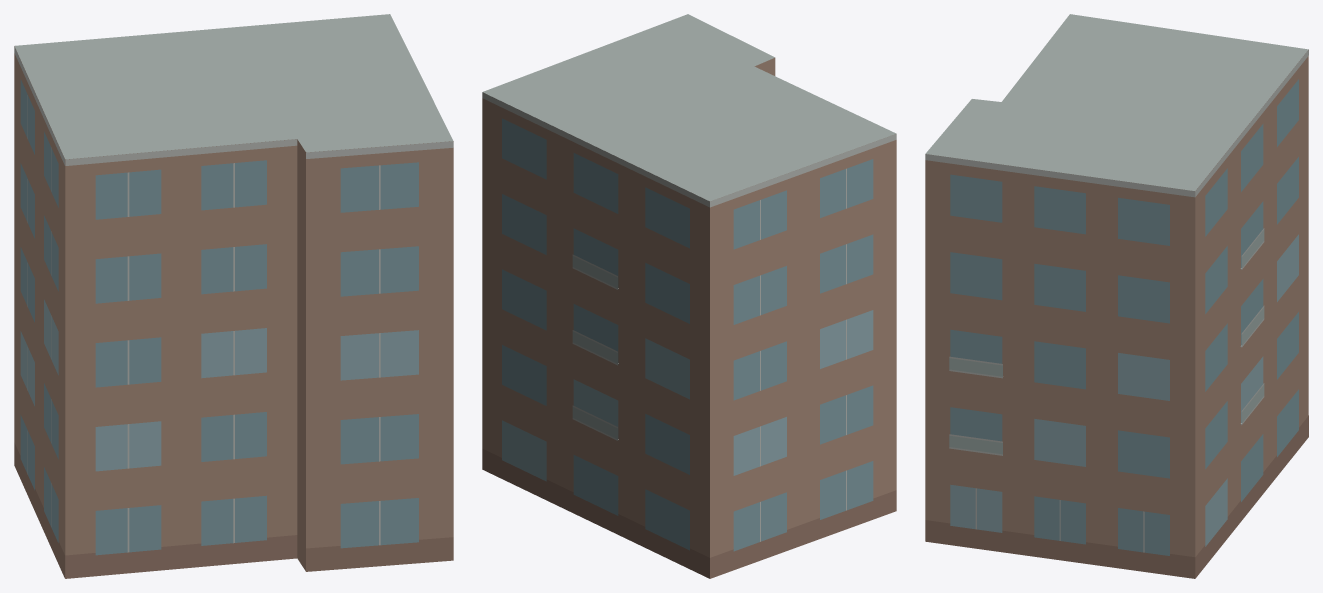
File: survey-upis-32724440.glb
3 renders of one model, left to right at view 1: azimuth 30°, elevation 25°; view 2: azimuth 150°, elevation 25°; view 3: azimuth 270°, elevation 25°, orthographic. The views are drawn at different scales.
Visible parts, largest first — view 1: survey-upis-32724440.tmp; view 2: survey-upis-32724440.tmp; view 3: survey-upis-32724440.tmp.
Boxes of the visible parts, left/top/right/bottom form: survey-upis-32724440.tmp: left=14, top=14, right=453, bottom=578; survey-upis-32724440.tmp: left=482, top=14, right=896, bottom=578; survey-upis-32724440.tmp: left=925, top=14, right=1308, bottom=578.
Size of the model in its own units: 15.01 by 15.3 by 13.73.
